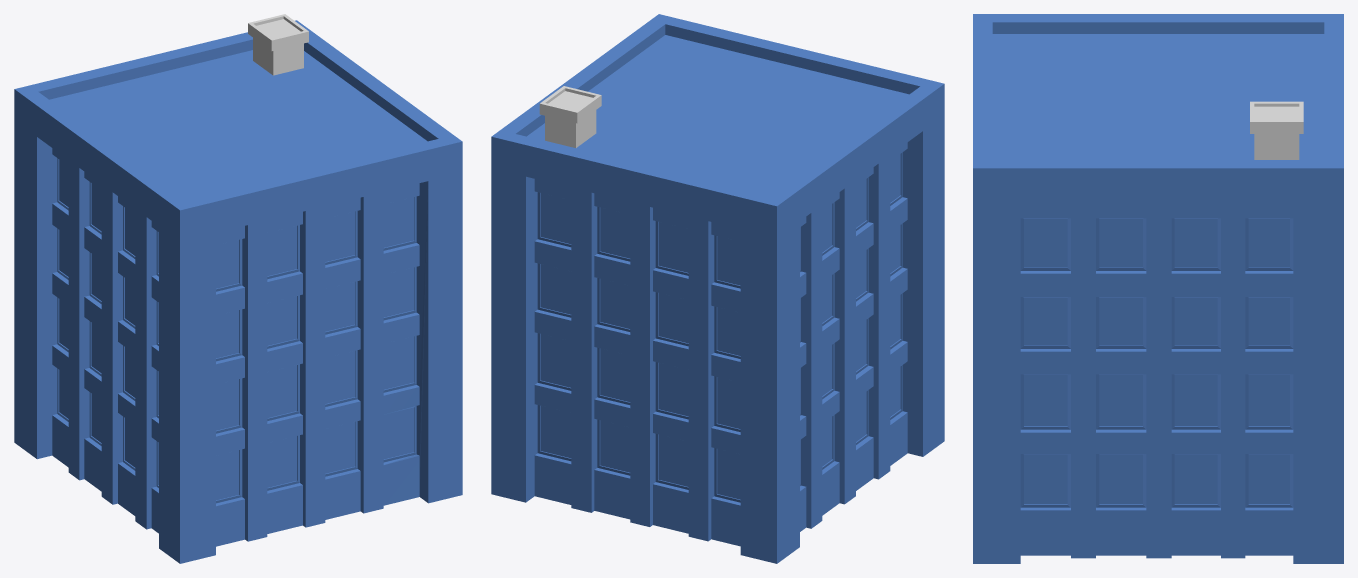
Rendered from building3.FBX.
3 renders of one model, left to right at view 1: azimuth 30°, elevation 25°; view 2: azimuth 150°, elevation 25°; view 3: azimuth 270°, elevation 25°, orthographic. The views are drawn at different scales.
Visible parts, largest first — view 1: Box001, Box002; view 2: Box001, Box002; view 3: Box001, Box002.
Part boxes in pixels (box(x1,y1,x2,y2)): Box001: box(14, 20, 462, 563); Box002: box(248, 14, 308, 75); Box001: box(491, 14, 944, 563); Box002: box(539, 86, 601, 147); Box001: box(973, 14, 1343, 563); Box002: box(1250, 101, 1303, 159).
Bounding box in the file's own units: 56 × 72.06 × 56.91.
